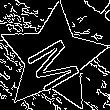M_NE: (21, 26, 86, 91)
